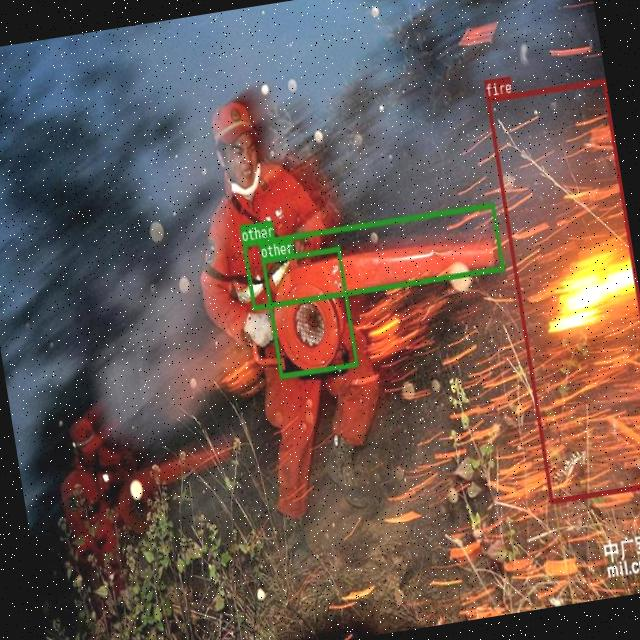fire: (485, 77, 640, 502)
